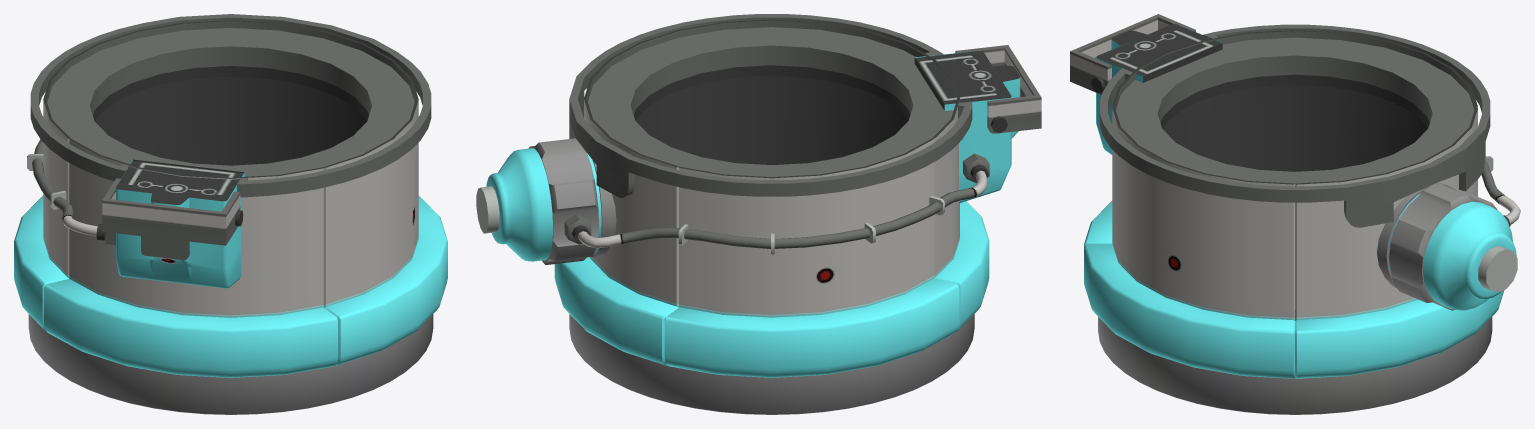
Rendered from gel_clear.glb.
The picture shows the model from 3 angles, left to right: view 1: azimuth 30°, elevation 25°; view 2: azimuth 150°, elevation 25°; view 3: azimuth 270°, elevation 25°; orthographic projection. The views are drawn at different scales.
Parts seen in each view (by area): view 1: EDITOR_paint_dropper.004; view 2: EDITOR_paint_dropper.004; view 3: EDITOR_paint_dropper.004.
Boxes of the visible parts, left/top/right/bottom form: EDITOR_paint_dropper.004: left=14, top=14, right=447, bottom=414; EDITOR_paint_dropper.004: left=476, top=14, right=1041, bottom=414; EDITOR_paint_dropper.004: left=1070, top=14, right=1520, bottom=414.
Size of the model in its own units: 1.52 by 0.894 by 1.54.
Materials: 1 (1 with a texture image).
